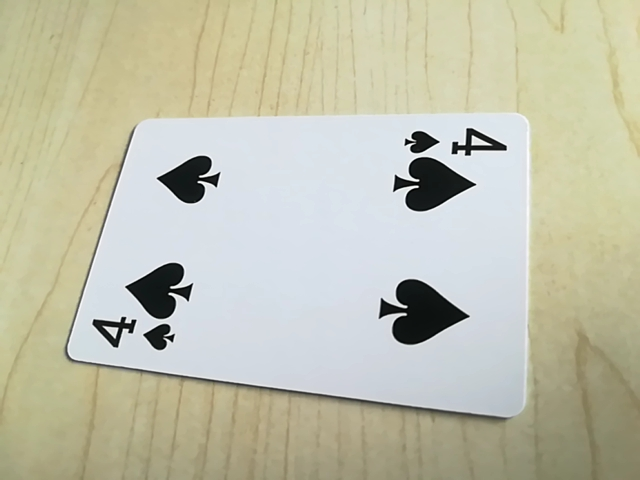ht 4: (81, 311, 184, 361), (395, 121, 506, 160)
